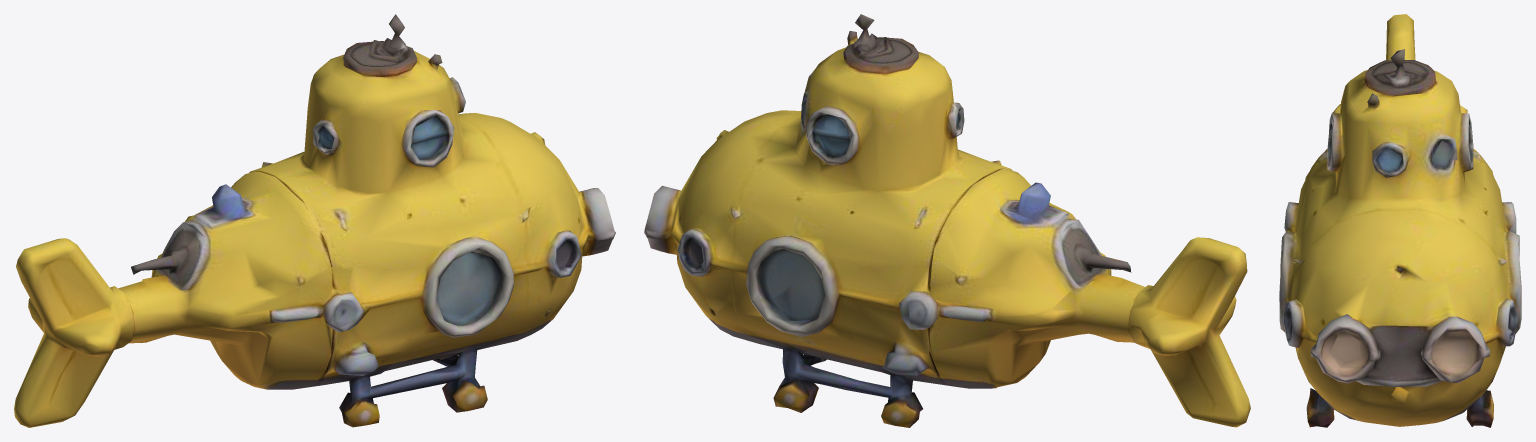
3 renders of one model, left to right at view 1: azimuth 30°, elevation 25°; view 2: azimuth 150°, elevation 25°; view 3: azimuth 270°, elevation 25°, orthographic. The views are drawn at different scales.
Parts seen in each view (by area): view 1: tripo_node_c4a43bfa-9445-4609-8f1f-11c917f3442d; view 2: tripo_node_c4a43bfa-9445-4609-8f1f-11c917f3442d; view 3: tripo_node_c4a43bfa-9445-4609-8f1f-11c917f3442d.
Boxes of the visible parts, x1,y1,x2,y2 form: tripo_node_c4a43bfa-9445-4609-8f1f-11c917f3442d: (14, 14, 615, 427); tripo_node_c4a43bfa-9445-4609-8f1f-11c917f3442d: (644, 14, 1250, 427); tripo_node_c4a43bfa-9445-4609-8f1f-11c917f3442d: (1279, 14, 1521, 427).
Size of the model in its own units: 1 by 0.6269 by 0.3815.
Materials: 1 (1 with a texture image).
